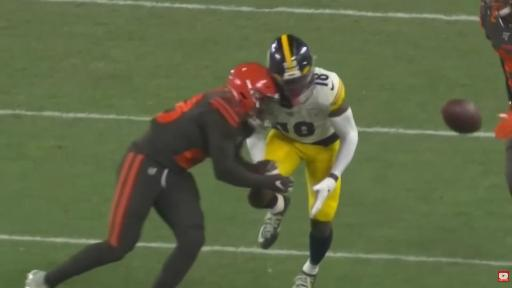Helmet: (268, 35, 314, 106), (227, 63, 278, 119), (482, 0, 511, 19)
Jersey: (132, 90, 267, 187), (266, 68, 345, 143), (480, 5, 511, 101)
Player: (26, 63, 292, 287), (247, 35, 358, 287), (480, 0, 511, 194)
